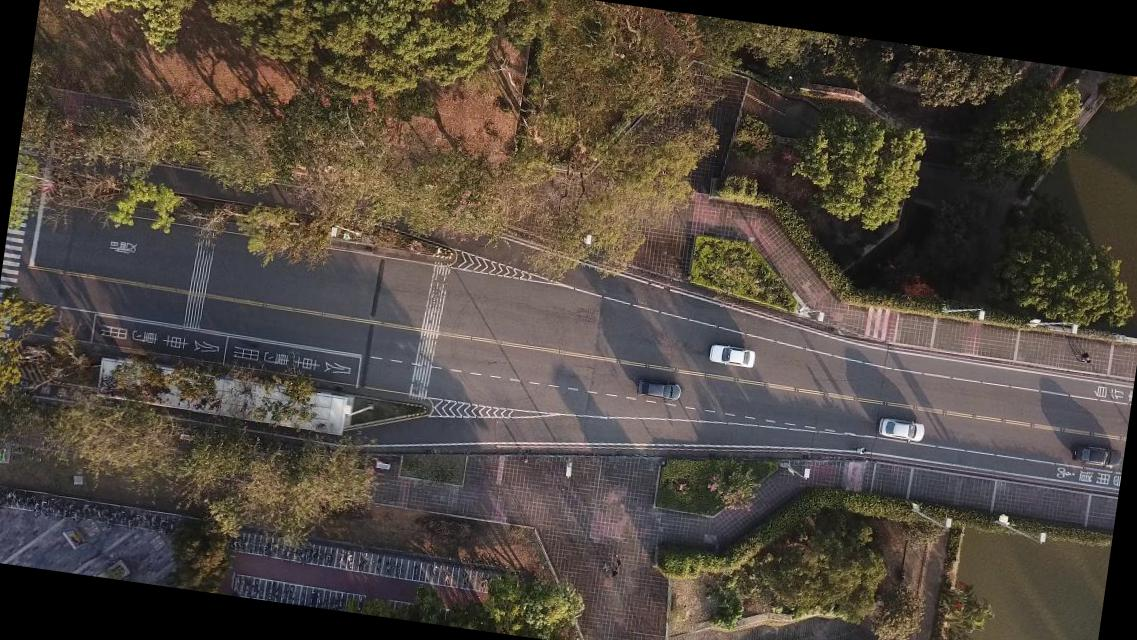vehicle: (876, 414, 926, 444), (1071, 444, 1122, 471), (708, 342, 756, 369), (636, 378, 682, 402)
